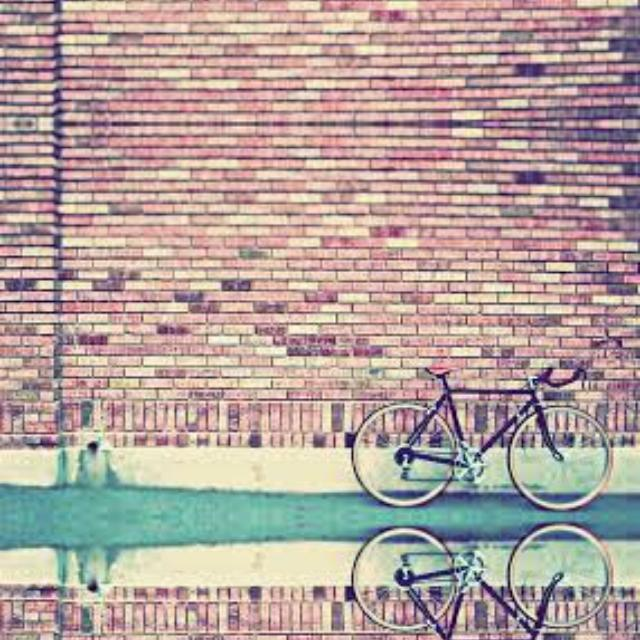obstacle: (339, 342, 629, 508), (339, 524, 629, 640)
